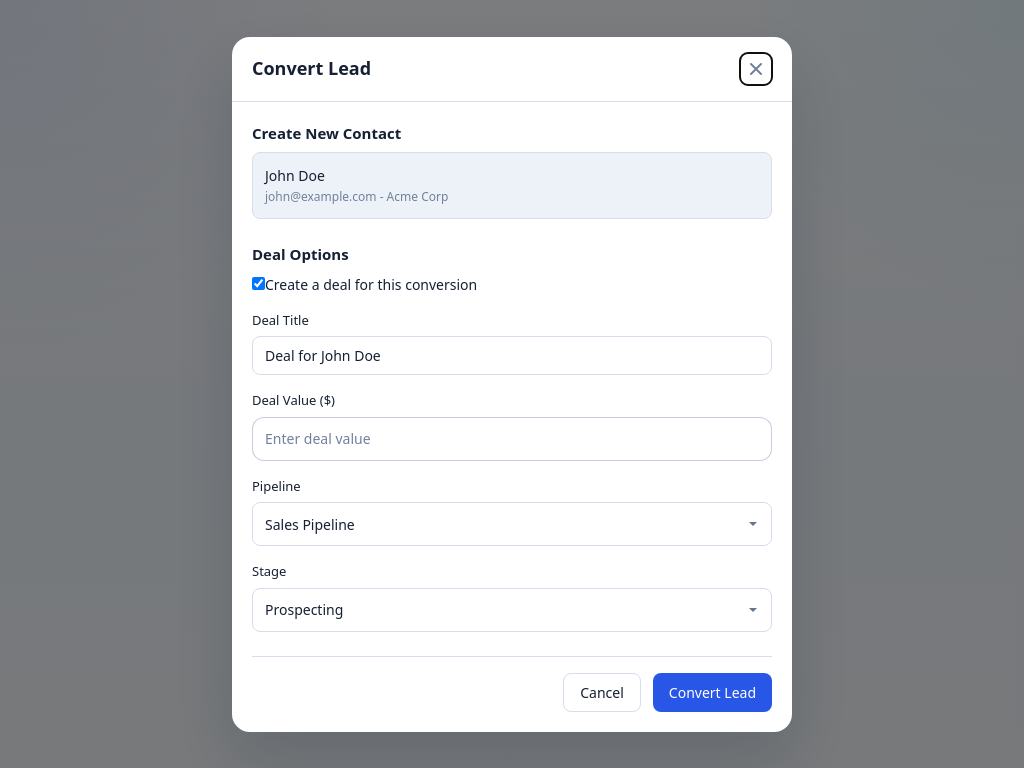
it: ConvertLeadModal › shows loading state during conversion
This screenshot has width=1024, height=768.
Click the button "Convert Lead": [712, 692] box [653,672,772,712]
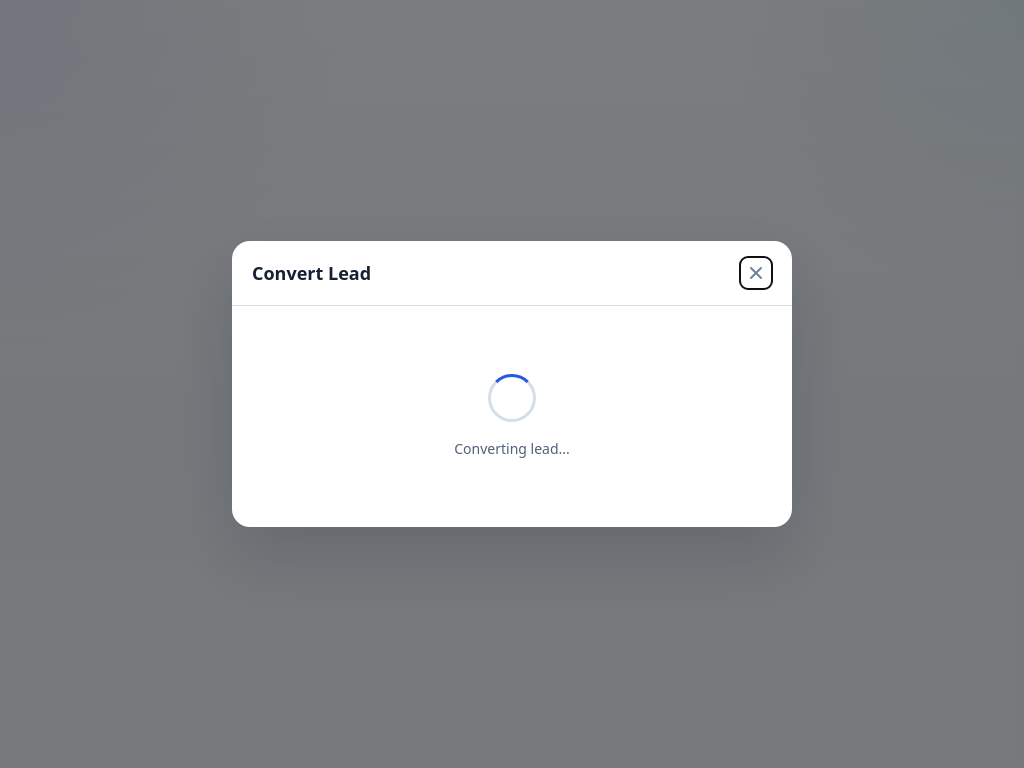
Now the text "Converting lead..." is shown, box [454,438,570,459]
